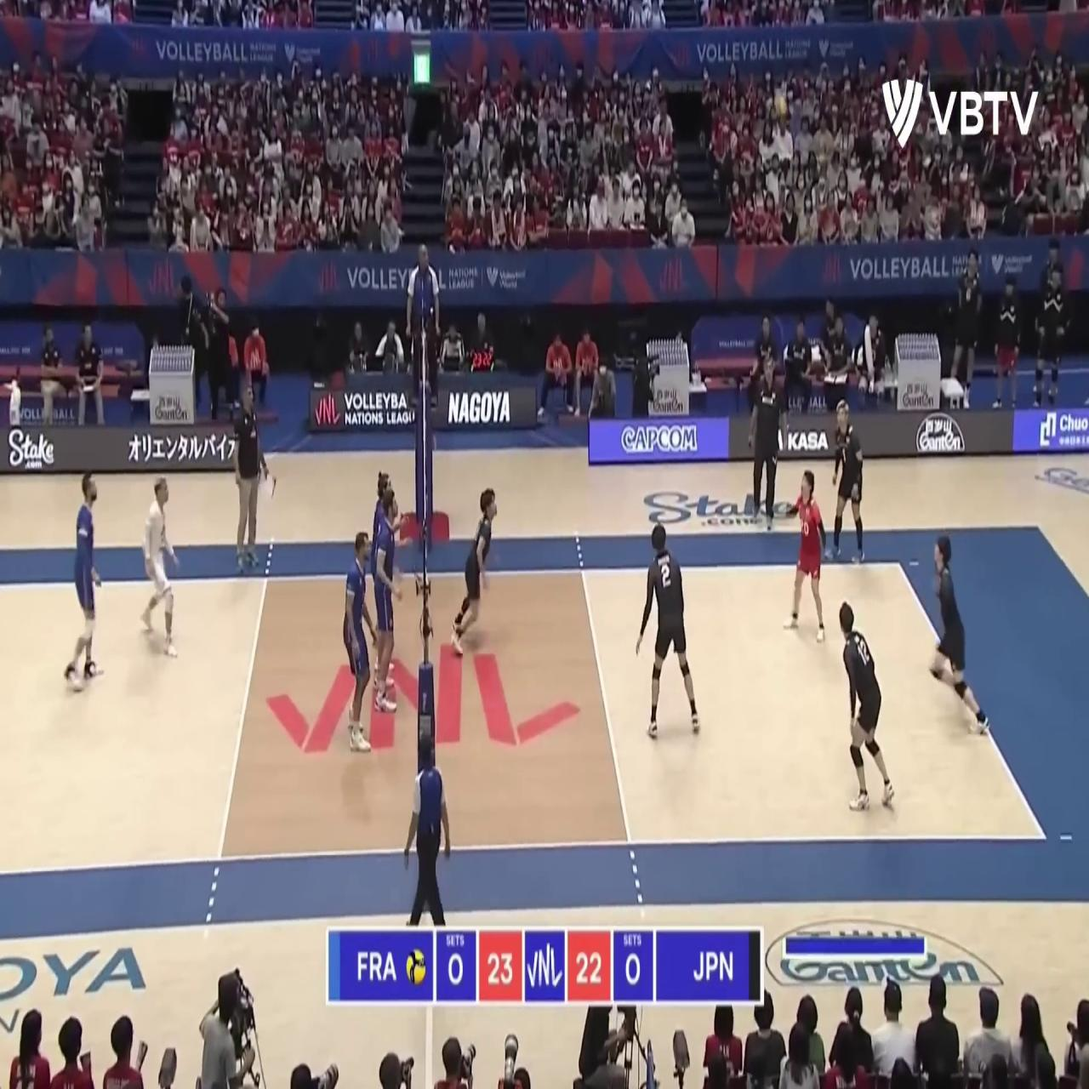ball: (775, 96, 786, 116)
